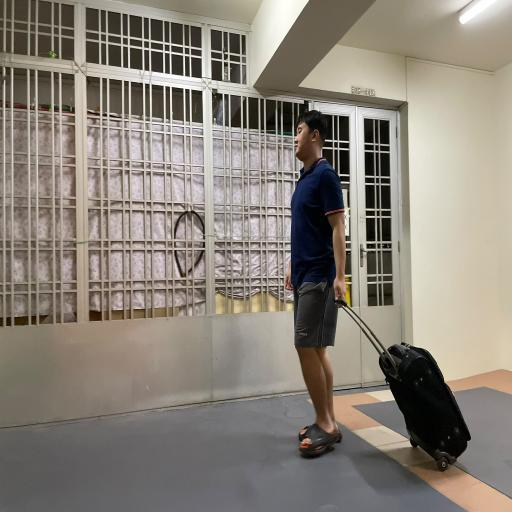person_left: (278, 114, 472, 478)
